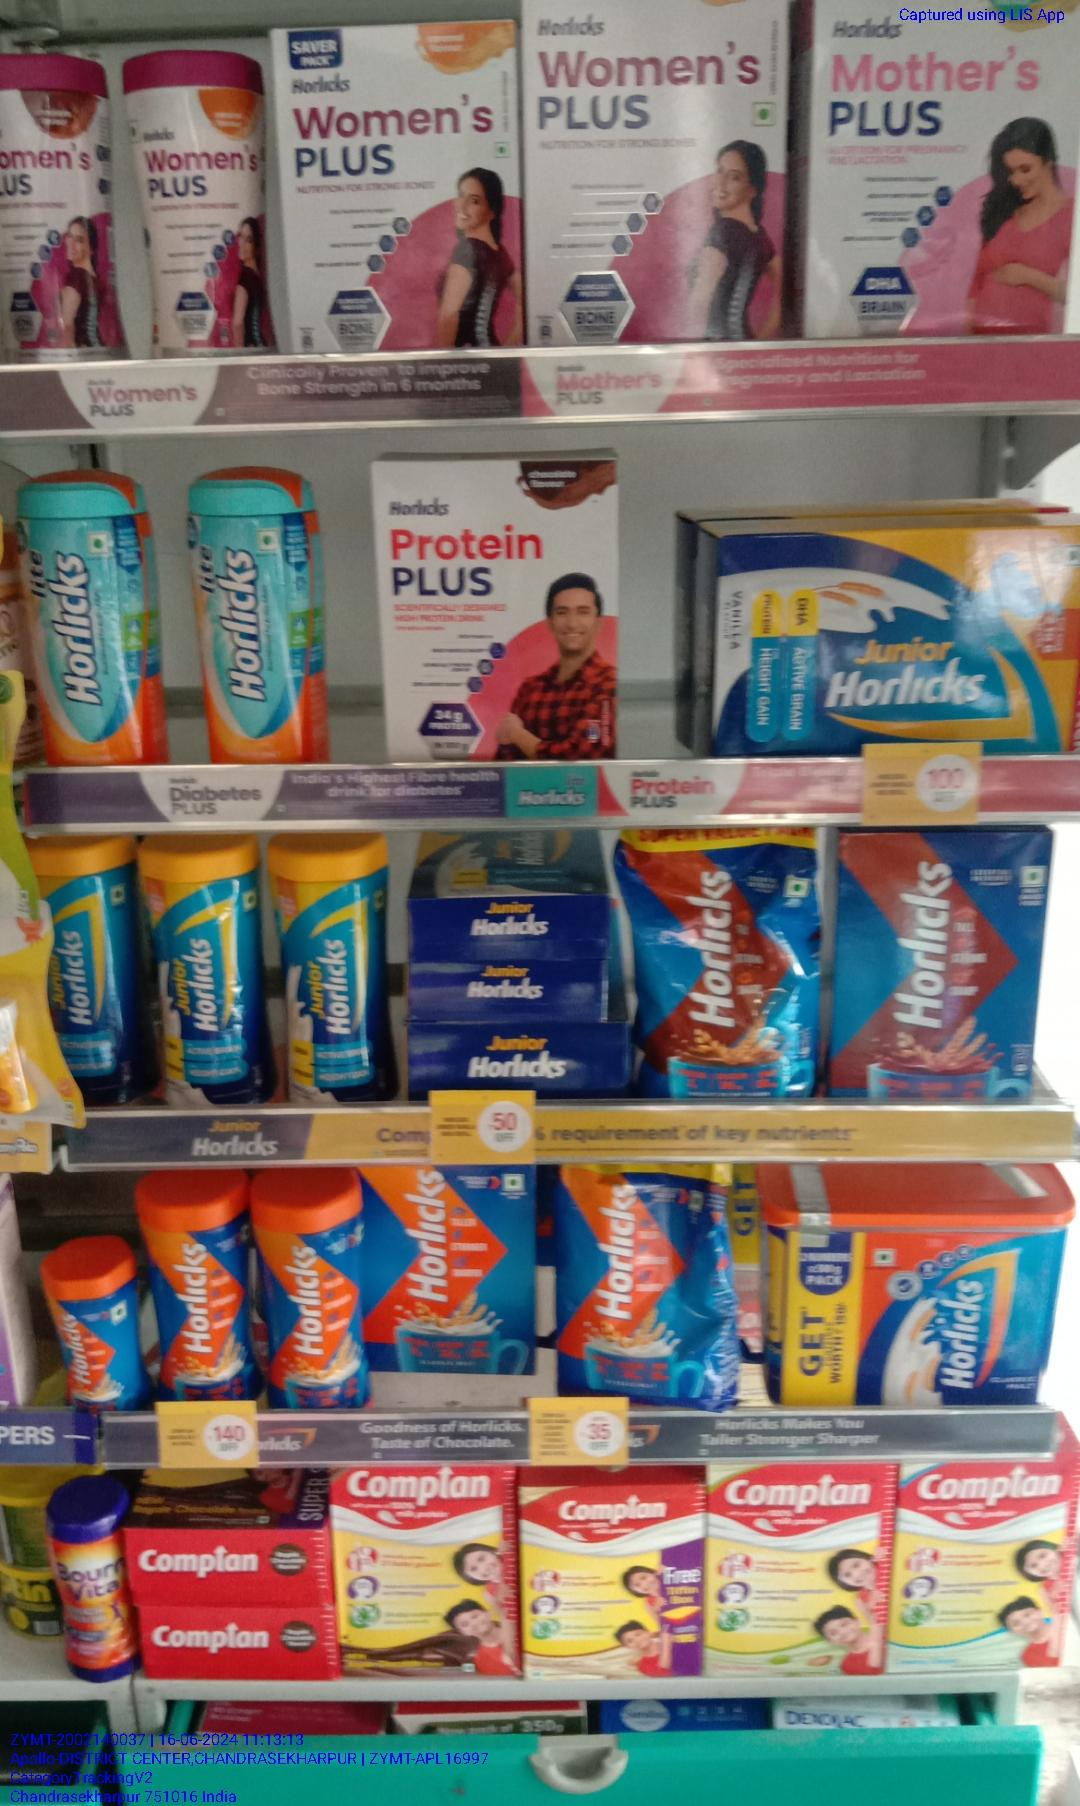BOURN_VITA_200_G_JAR: (53, 1490, 130, 1686)
COMPLAN_CREAMY_CLASSIC_500_G_PACK: (890, 1467, 1067, 1676)
COMPLAN_PISTA_BADAM_500_GMS_PACK: (706, 1463, 885, 1674)
HORLICKS_JUNIOR_VANILLA_500_GM_JAR: (149, 847, 273, 1108), (282, 838, 392, 1099)
HORLICKS_LITE_REGULAR_MALT_500_GM_JAR: (21, 486, 165, 769), (190, 476, 306, 761)
HORLICK_CHOCOLATE_500_G_PACK: (833, 829, 1038, 1105)
HORLICK_CHOCOLATE_750_G_POUCH: (647, 820, 820, 1100)
HORLICK_CLASSIC_MALT_200_G_JAR: (45, 1267, 135, 1413)
HORLICK_CLASSIC_MALT_500_G_JAR: (266, 1180, 369, 1411), (144, 1176, 251, 1396)
HORLICK_CLASSIC_MALT_500_G_PACK: (374, 1172, 536, 1373)
HORLICK_CLASSIC_MALT_750_G_POUCH: (561, 1167, 737, 1408)
HORLICK_MALT_1_KG_CONTAINER: (766, 1197, 1057, 1404)
